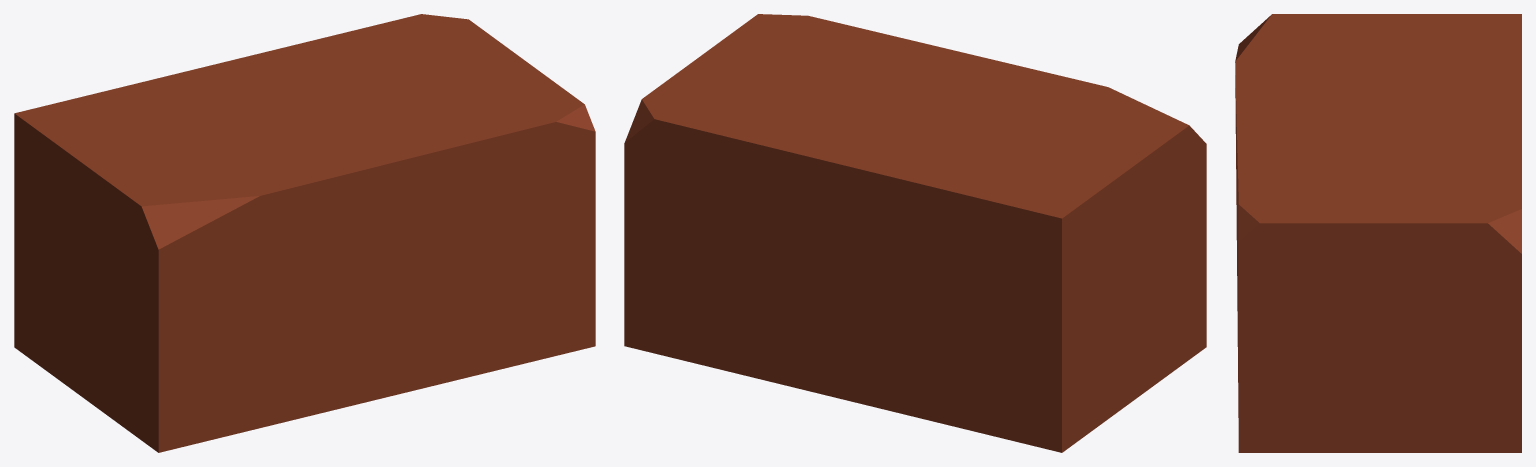
File: Brick_03.fbx
3 renders of one model, left to right at view 1: azimuth 30°, elevation 25°; view 2: azimuth 150°, elevation 25°; view 3: azimuth 270°, elevation 25°, orthographic. The views are drawn at different scales.
Parts seen in each view (by area): view 1: Brick_03; view 2: Brick_03; view 3: Brick_03.
Boxes of the visible parts, x1,y1,x2,y2 form: Brick_03: (14,14,595,452); Brick_03: (624,14,1206,452); Brick_03: (1235,14,1521,452).
Bounding box in the file's own units: 45.32 × 23.19 × 26.23.
